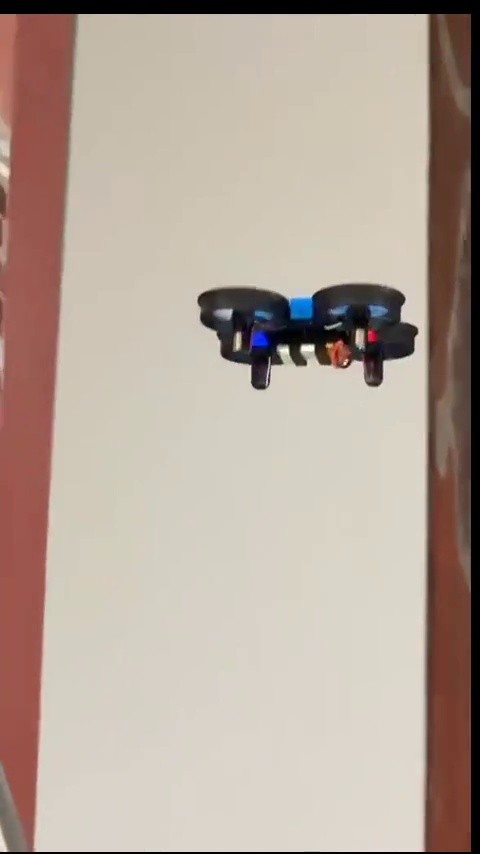drone: (197, 284, 418, 392)
